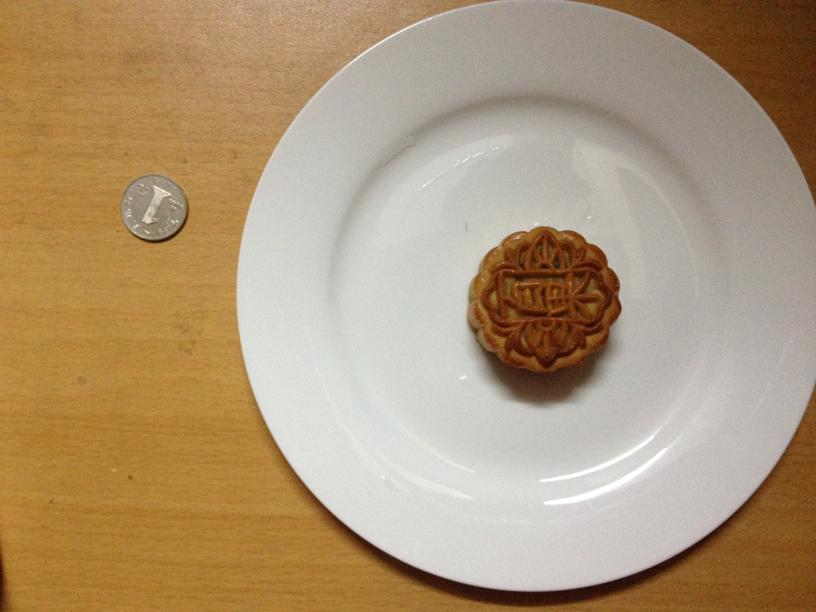coin: (119, 173, 189, 242)
mooncake: (466, 228, 621, 376)
